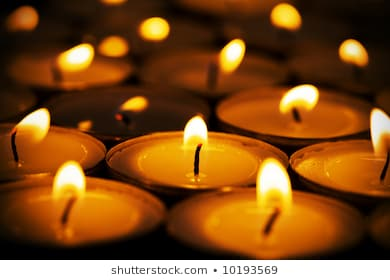Fire: (255, 158, 293, 216), (278, 82, 323, 117), (12, 104, 50, 144), (54, 161, 87, 206), (53, 42, 97, 74), (182, 116, 212, 156), (269, 1, 306, 33), (366, 106, 390, 153), (219, 38, 247, 72), (339, 37, 367, 70), (138, 14, 172, 40)
